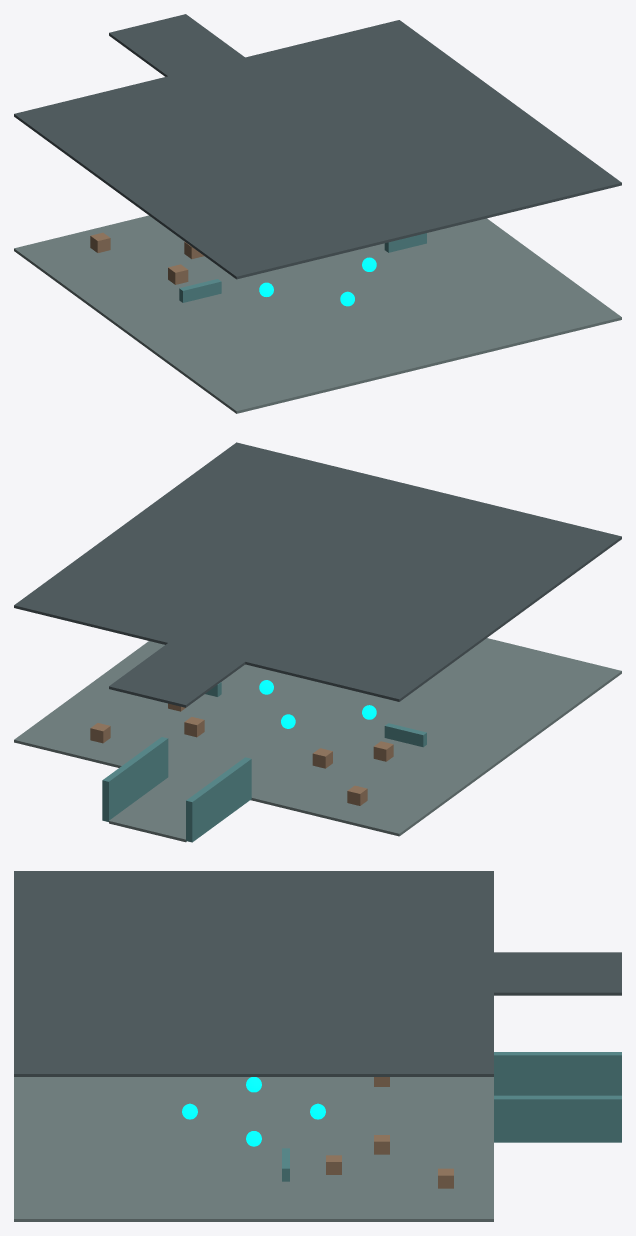
The model's file is saltglass_spawn_zone_graybox.glb.
3 renders of one model, top to bottom at view 1: azimuth 30°, elevation 25°; view 2: azimuth 150°, elevation 25°; view 3: azimuth 270°, elevation 25°, orthographic. The views are drawn at different scales.
Parts seen in each view (by area): view 1: SGC_Ceiling_SpawnZone_30x30, SGC_Floor_SpawnZone_30x30, SGC_Ceiling_ExitThroat_6x8, SGC_WaistWall_West; view 2: SGC_Ceiling_SpawnZone_30x30, SGC_Floor_SpawnZone_30x30, SGC_Ceiling_ExitThroat_6x8, SGC_ExitThroat_6x8, SGC_ExitThroatWall_West, SGC_ExitThroatWall_East, SGC_WaistWall_West; view 3: SGC_Ceiling_SpawnZone_30x30, SGC_Floor_SpawnZone_30x30, SGC_ExitThroatWall_East, SGC_ExitThroatWall_West, SGC_Ceiling_ExitThroat_6x8.
Boxes of the visible parts, box(x1,y1,x2,y2) form: SGC_Ceiling_SpawnZone_30x30: box(14, 20, 621, 279); SGC_Floor_SpawnZone_30x30: box(14, 215, 621, 413); SGC_Ceiling_ExitThroat_6x8: box(109, 14, 244, 76); SGC_WaistWall_West: box(179, 279, 221, 302); SGC_Ceiling_SpawnZone_30x30: box(14, 442, 621, 701); SGC_Floor_SpawnZone_30x30: box(14, 638, 621, 836); SGC_Ceiling_ExitThroat_6x8: box(109, 643, 245, 707); SGC_ExitThroat_6x8: box(109, 777, 204, 842); SGC_ExitThroatWall_West: box(186, 757, 251, 842); SGC_ExitThroatWall_East: box(102, 737, 168, 821); SGC_WaistWall_West: box(384, 723, 426, 747); SGC_Ceiling_SpawnZone_30x30: box(14, 871, 493, 1076); SGC_Floor_SpawnZone_30x30: box(14, 1077, 493, 1221); SGC_ExitThroatWall_East: box(494, 1095, 621, 1142); SGC_ExitThroatWall_West: box(494, 1052, 621, 1095); SGC_Ceiling_ExitThroat_6x8: box(494, 952, 621, 995).
Size of the model in its own units: 30 by 10.2 by 38.
